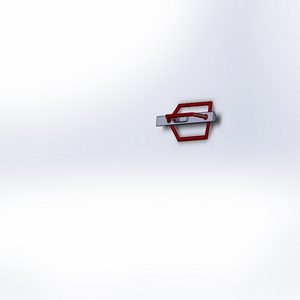submarine: (148, 94, 237, 163)
